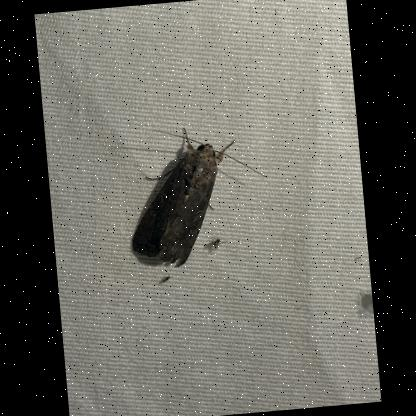Fall Armyworm Moth: (119, 119, 276, 273)
